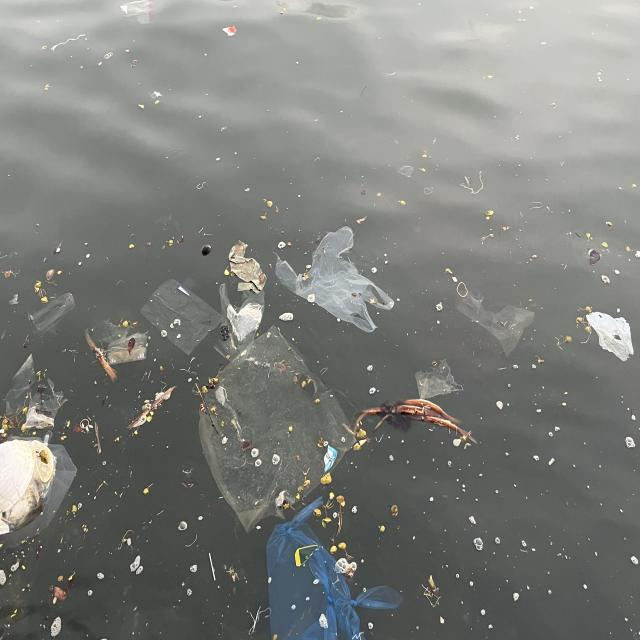foam: (0, 440, 34, 512)
plastic bottle: (193, 328, 359, 530), (266, 498, 403, 640), (274, 224, 394, 332), (0, 438, 77, 550), (140, 276, 222, 352), (456, 290, 535, 356), (8, 352, 66, 429), (217, 282, 264, 361), (586, 310, 634, 360), (26, 291, 76, 338), (96, 320, 146, 362), (229, 238, 267, 290), (414, 360, 463, 400), (119, 0, 153, 24), (398, 164, 414, 178)
unknow: (224, 24, 237, 38)
